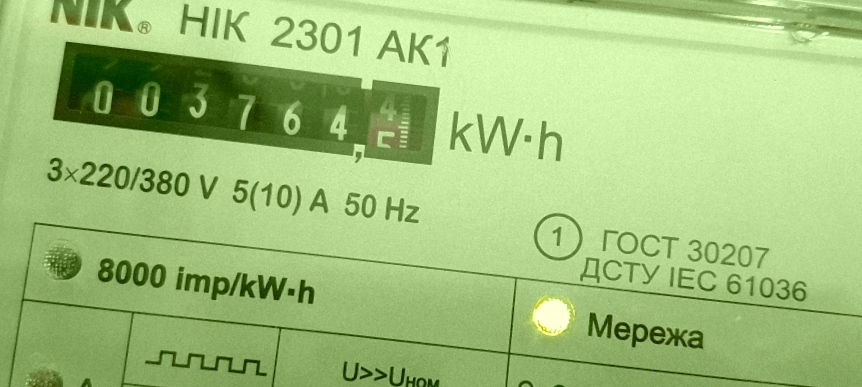0: (89, 76, 117, 116), (137, 77, 163, 119)
3: (185, 79, 212, 121)
4: (328, 101, 351, 143), (377, 89, 401, 123)
5: (373, 127, 397, 151)
6: (280, 97, 305, 137)
7: (231, 89, 259, 133)
screen: (37, 24, 458, 181)
